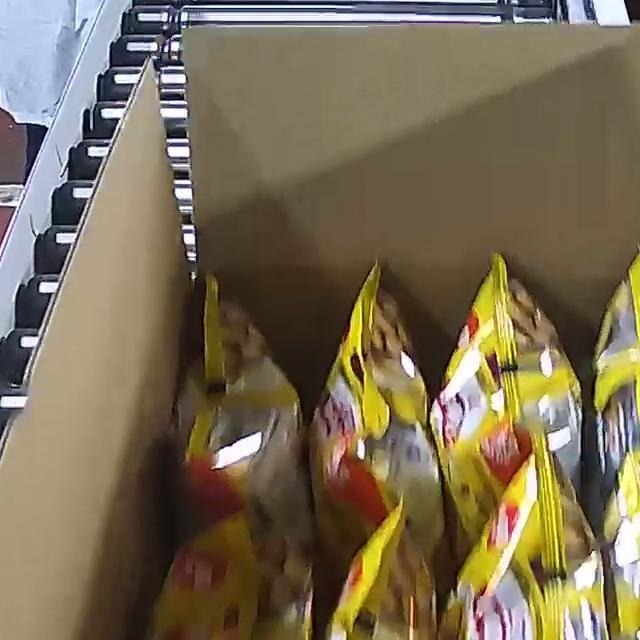salted: (83, 245, 640, 640)
